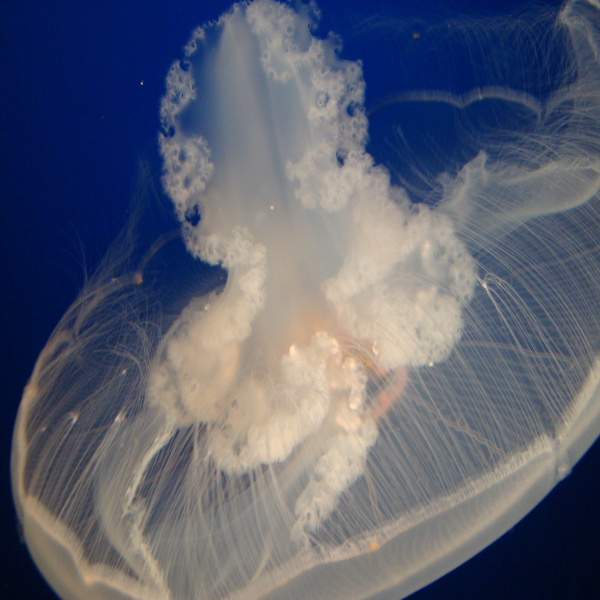Jellyfish: (8, 0, 599, 599)
